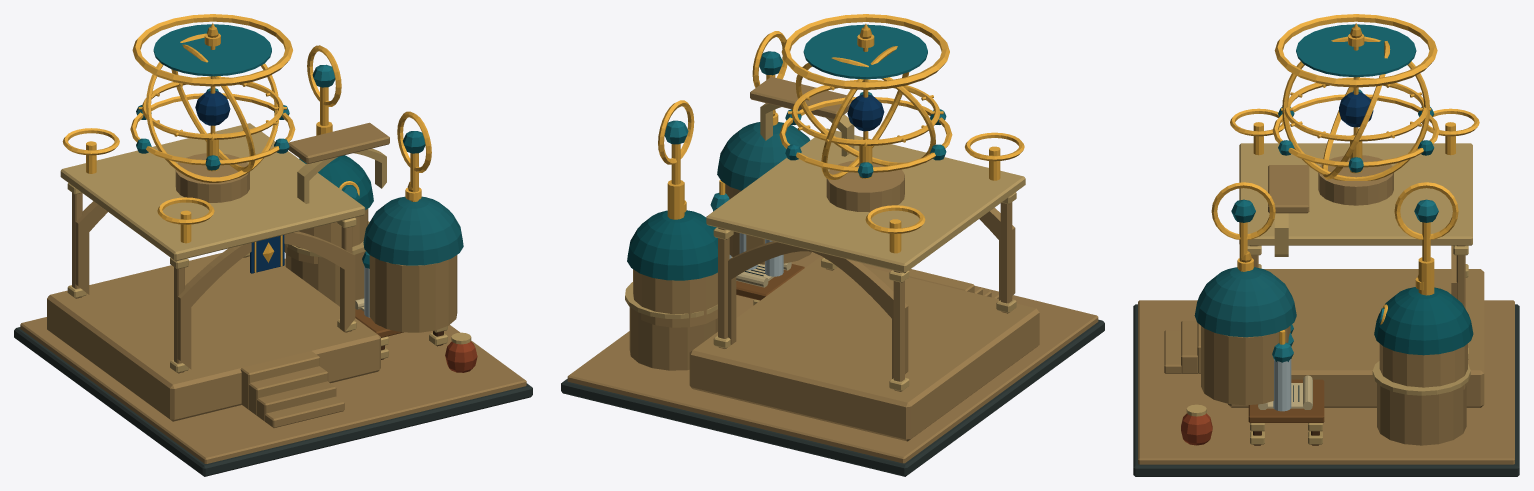
3 renders of one model, left to right at view 1: azimuth 30°, elevation 25°; view 2: azimuth 150°, elevation 25°; view 3: azimuth 270°, elevation 25°, orthographic. The views are drawn at different scales.
Parts seen in each view (by area): view 1: laboratory_level10_structure, laboratory_level10_metal; view 2: laboratory_level10_structure, laboratory_level10_metal; view 3: laboratory_level10_structure, laboratory_level10_metal.
Part boxes in pixels (x1=…): laboratory_level10_structure: x1=14, y1=24, x2=532, y2=476; laboratory_level10_metal: x1=62, y1=14, x2=431, y2=272; laboratory_level10_structure: x1=561, y1=24, x2=1104, y2=476; laboratory_level10_metal: x1=658, y1=14, x2=1024, y2=253; laboratory_level10_structure: x1=1133, y1=24, x2=1519, y2=476; laboratory_level10_metal: x1=1211, y1=14, x2=1479, y2=344.
Bounding box in the file's own units: 5.6 × 5.61 × 5.6.
